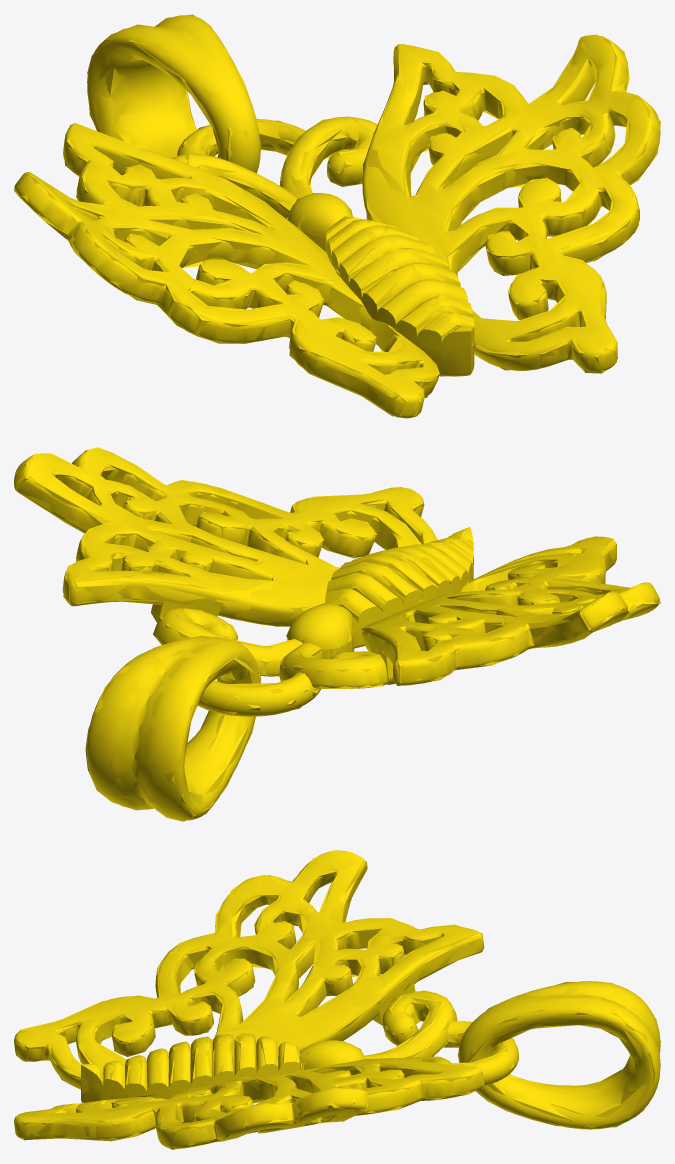
Rendered from GPN-SAD0003048.glb.
The picture shows the model from 3 angles, top to bottom: view 1: azimuth 30°, elevation 25°; view 2: azimuth 150°, elevation 25°; view 3: azimuth 270°, elevation 25°; orthographic projection. The views are drawn at different scales.
Visible parts, largest first — view 1: highPolyMesh, lowPolyMesh; view 2: highPolyMesh, lowPolyMesh; view 3: highPolyMesh, lowPolyMesh.
Part boxes in pixels (x1,y1,x2,y2): highPolyMesh: [14, 15, 660, 418]; lowPolyMesh: [14, 14, 660, 416]; highPolyMesh: [14, 449, 659, 820]; lowPolyMesh: [15, 447, 660, 821]; highPolyMesh: [14, 850, 660, 1148]; lowPolyMesh: [15, 850, 660, 1149].
Bounding box in the file's own units: 0.0195 × 0.00551 × 0.0214.
